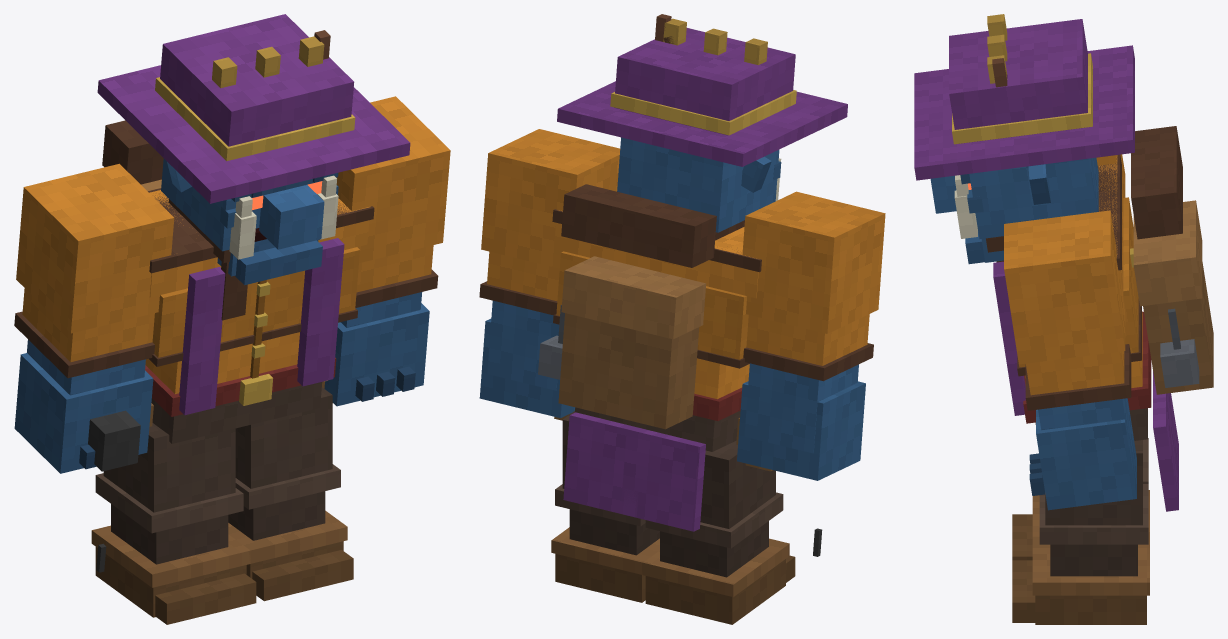
The model's file is ogre_marchand_v2.glb.
3 renders of one model, left to right at view 1: azimuth 30°, elevation 25°; view 2: azimuth 150°, elevation 25°; view 3: azimuth 270°, elevation 25°, orthographic. The views are drawn at different scales.
Parts seen in each view (by area): view 1: Head, ArmR, Torso, LegR, ArmL, LegL, HandR; view 2: Torso, ArmR, Head, ArmL, LegR, LegL; view 3: Head, ArmL, Torso, LegL, LegR.
Part boxes in pixels (<box>): Head: <box>97,14,410,285</box>; ArmR: <box>14,163,174,473</box>; Torso: <box>102,120,374,443</box>; LegR: <box>91,423,256,624</box>; ArmL: <box>324,96,450,406</box>; LegL: <box>228,387,353,601</box>; HandR: <box>88,410,140,572</box>; Torso: <box>538,184,772,531</box>; ArmR: <box>737,191,885,480</box>; Head: <box>557,14,847,240</box>; ArmL: <box>479,129,620,417</box>; LegR: <box>642,440,795,624</box>; LegL: <box>551,411,659,602</box>; Head: <box>914,14,1134,264</box>; ArmL: <box>1004,210,1136,510</box>; Torso: <box>993,126,1213,511</box>; LegL: <box>1012,440,1149,624</box>; LegR: <box>1012,438,1149,560</box>.
Size of the model in its own units: 1.46 by 2.1 by 1.04.
Materials: 38 (38 with a texture image).
